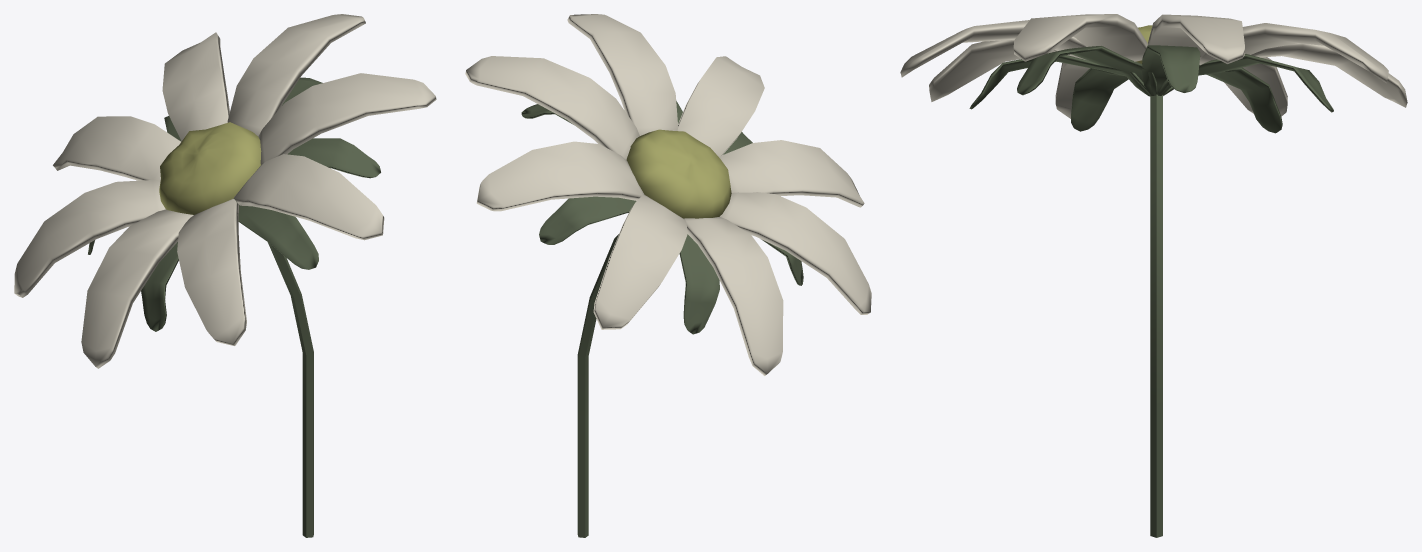
The model's file is Flower.fbx.
3 renders of one model, left to right at view 1: azimuth 30°, elevation 25°; view 2: azimuth 150°, elevation 25°; view 3: azimuth 270°, elevation 25°, orthographic. The views are drawn at different scales.
Visible parts, largest first — view 1: pCube14, pCube9, pCube8, pCube1, pCube13, F_Center, pCube10, pCube12, pCube11, Stem, pCube2, pCube7 (+1 smaller); view 2: pCube11, pCube13, pCube10, pCube12, pCube14, F_Center, pCube9, pCube1, pCube8, Stem, pCube4, pCube5; view 3: Stem, pCube9, pCube10, pCube11, pCube1, pCube12, pCube6, pCube7, pCube8, pCube3, pCube4, pCube5 (+3 smaller).
Boxes of the visible parts, x1,y1,x2,y2 form: pCube14: (81, 209, 193, 368); pCube9: (258, 73, 436, 164); pCube8: (234, 154, 384, 240); pCube1: (177, 198, 246, 345); pCube13: (14, 180, 165, 297); F_Center: (159, 122, 261, 214); pCube10: (227, 14, 365, 136); pCube12: (53, 116, 180, 181); pCube11: (162, 32, 229, 141); Stem: (267, 242, 313, 537); pCube2: (234, 198, 318, 269); pCube7: (287, 138, 380, 178); pCube11: (476, 141, 644, 211); pCube13: (684, 217, 783, 375); pCube10: (465, 56, 639, 159); pCube12: (593, 195, 687, 329); pCube14: (719, 192, 871, 314); F_Center: (626, 129, 731, 218); pCube9: (567, 14, 678, 135); pCube1: (719, 140, 864, 207); pCube8: (677, 56, 764, 157); Stem: (577, 234, 618, 537); pCube4: (679, 234, 719, 334); pCube5: (539, 196, 636, 244); Stem: (1150, 94, 1162, 537); pCube9: (1013, 14, 1147, 61); pCube10: (1148, 14, 1244, 63); pCube11: (1199, 23, 1388, 83); pCube1: (929, 40, 1057, 101); pCube12: (1251, 43, 1407, 107); pCube6: (1142, 45, 1200, 95); pCube7: (1017, 46, 1157, 96); pCube8: (900, 20, 1085, 77); pCube3: (1071, 68, 1128, 131); pCube4: (1163, 67, 1282, 133); pCube5: (1157, 54, 1333, 112).
Bounding box in the file's own units: 0.1838 × 0.2485 × 0.2142.
